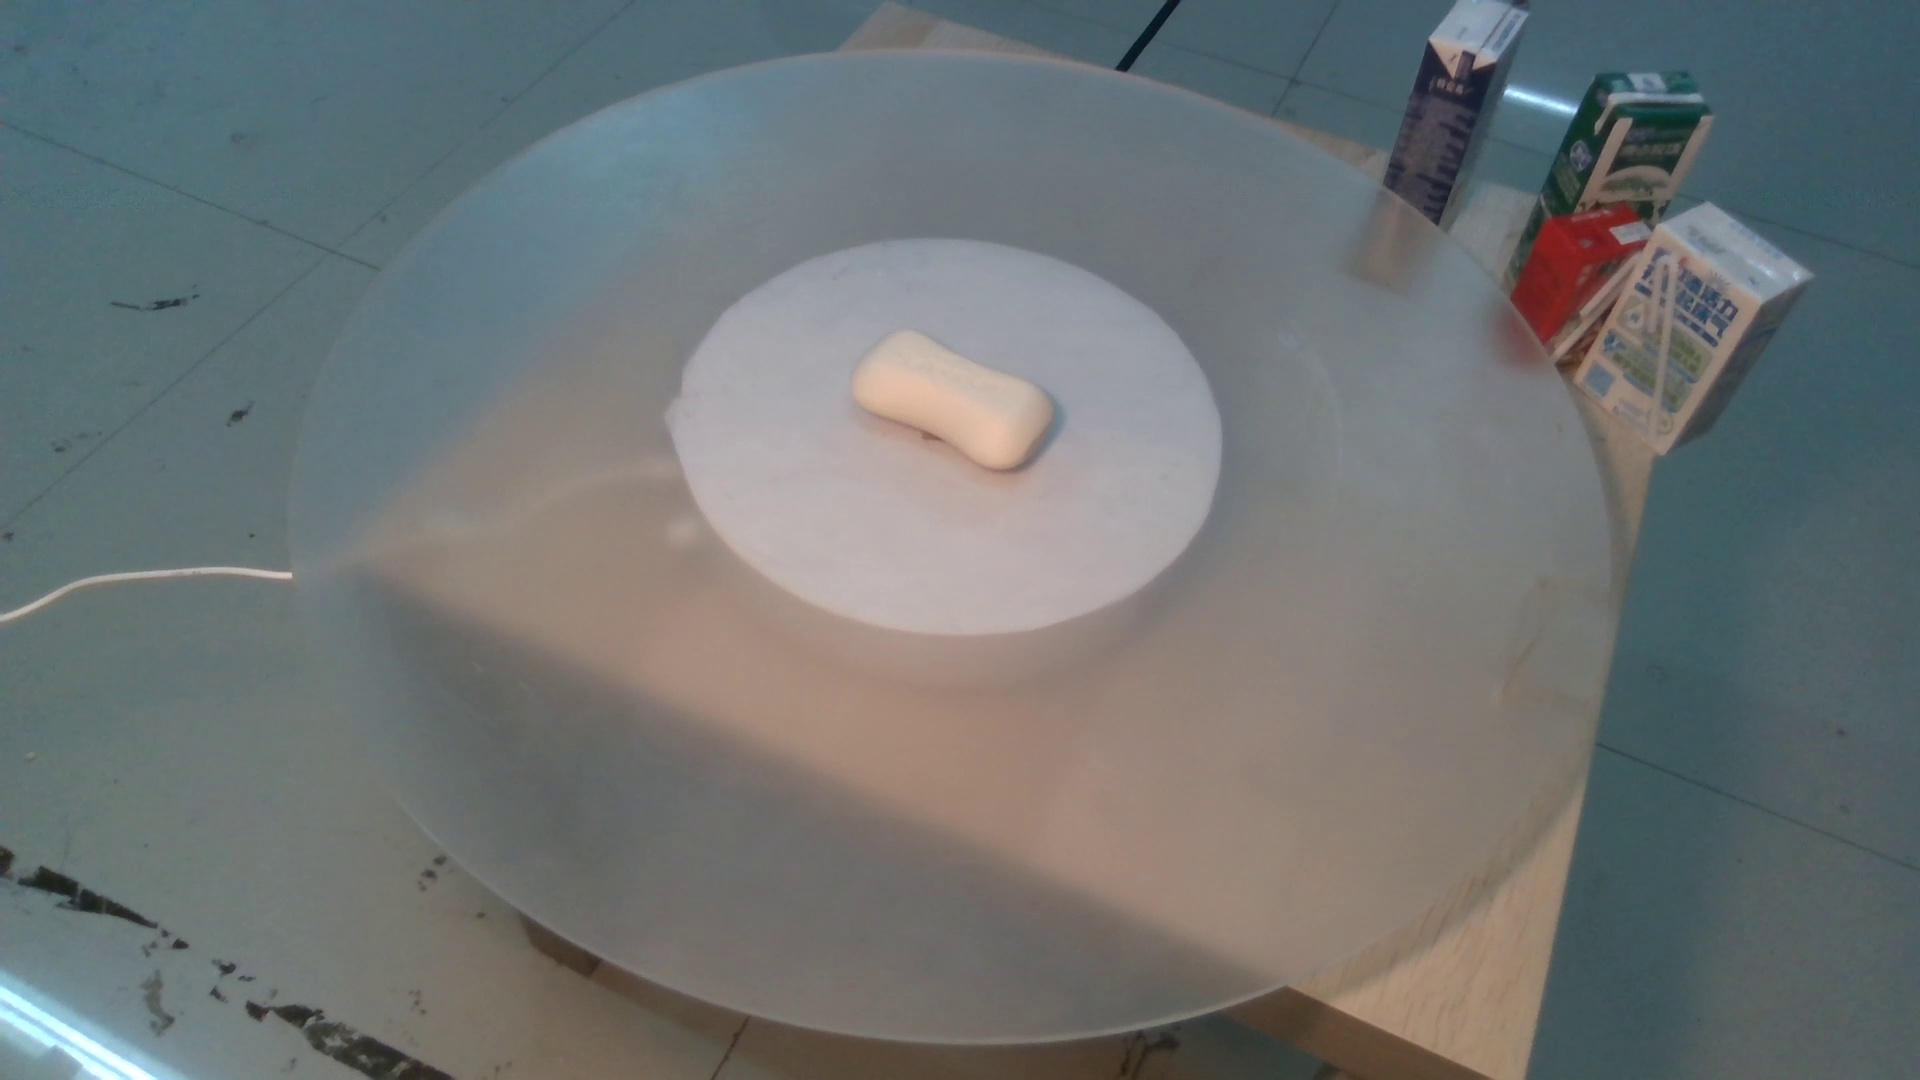CA003_1: (837, 318, 1077, 469)
